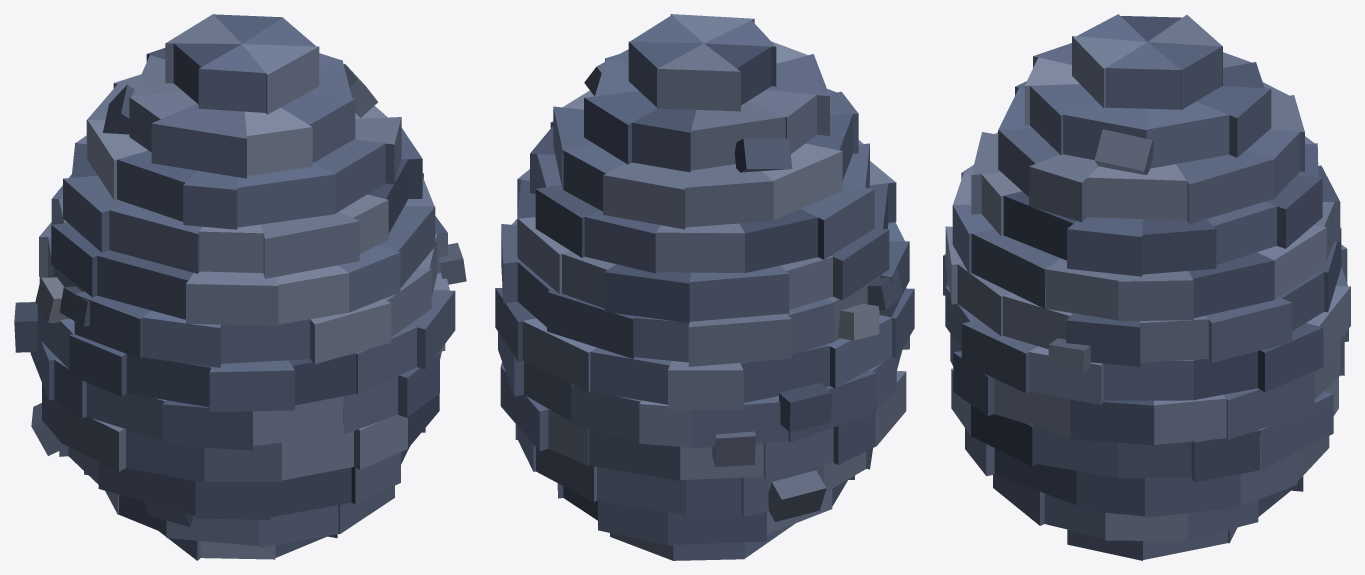
Rendered from rock_egg.glb.
The picture shows the model from 3 angles, left to right: view 1: azimuth 30°, elevation 25°; view 2: azimuth 150°, elevation 25°; view 3: azimuth 270°, elevation 25°; orthographic projection.
Visible parts, largest first — view 1: rock_egg; view 2: rock_egg; view 3: rock_egg.
Part boxes in pixels (x1,y1,x2,y2): rock_egg: (14, 14, 466, 560); rock_egg: (495, 14, 914, 560); rock_egg: (943, 14, 1350, 560).
Bounding box in the file's own units: 0.8944 × 1.1 × 0.8546.
